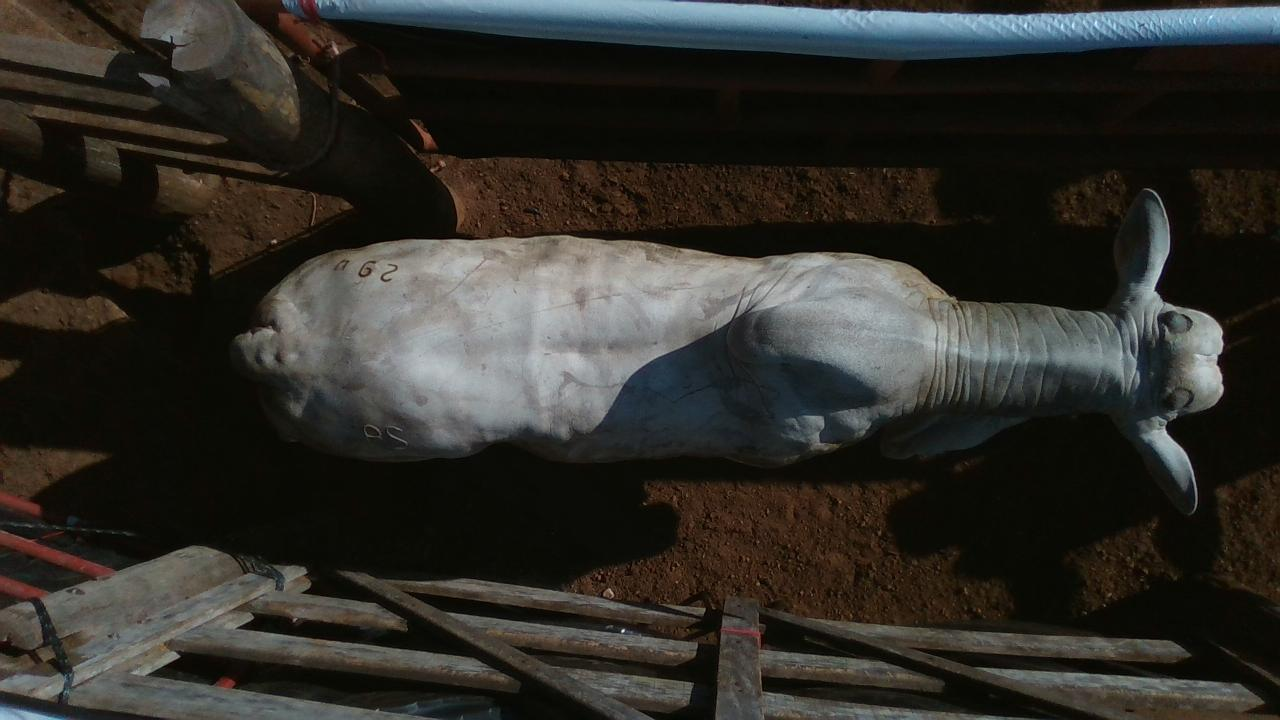cattle: (228, 186, 1226, 516)
